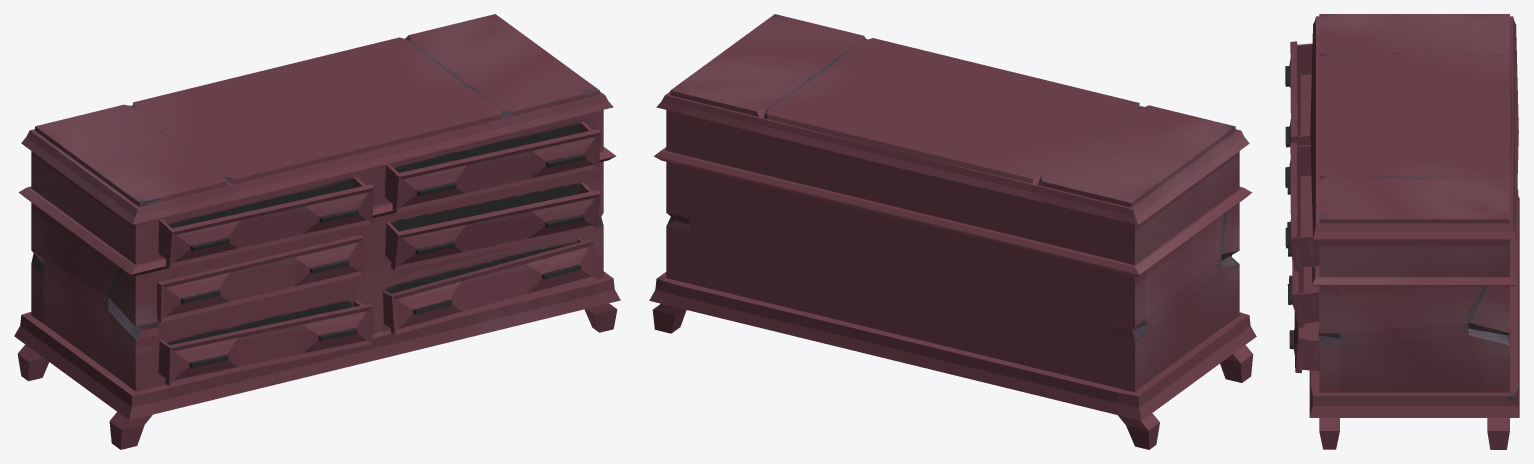
File: ComodaGrande.fbx
3 renders of one model, left to right at view 1: azimuth 30°, elevation 25°; view 2: azimuth 150°, elevation 25°; view 3: azimuth 270°, elevation 25°, orthographic. The views are drawn at different scales.
Visible parts, largest first — view 1: Cajonera; view 2: Cajonera; view 3: Cajonera.
Boxes of the visible parts, bbox=[...] form: Cajonera: bbox=[14, 14, 620, 449]; Cajonera: bbox=[649, 14, 1256, 449]; Cajonera: bbox=[1285, 14, 1519, 449].
Bounding box in the file's own units: 431 × 203 × 194.
2 materials, 2 textured.
